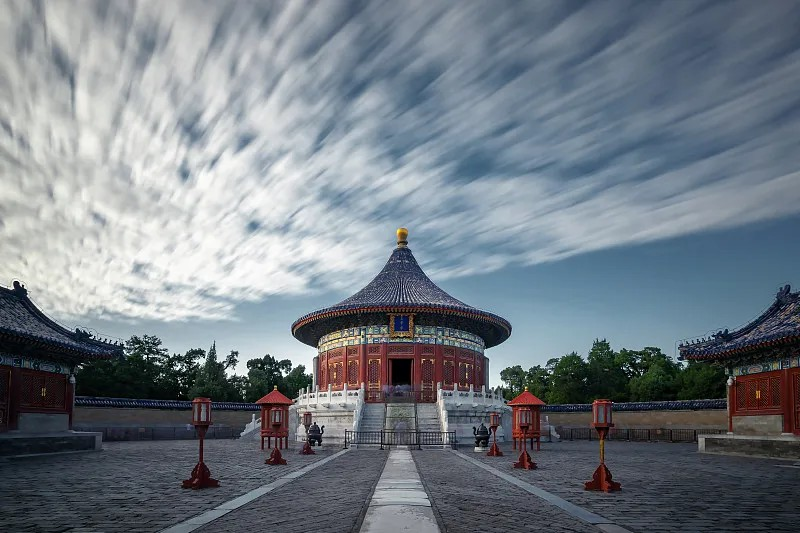Heaven: (291, 227, 513, 403)
